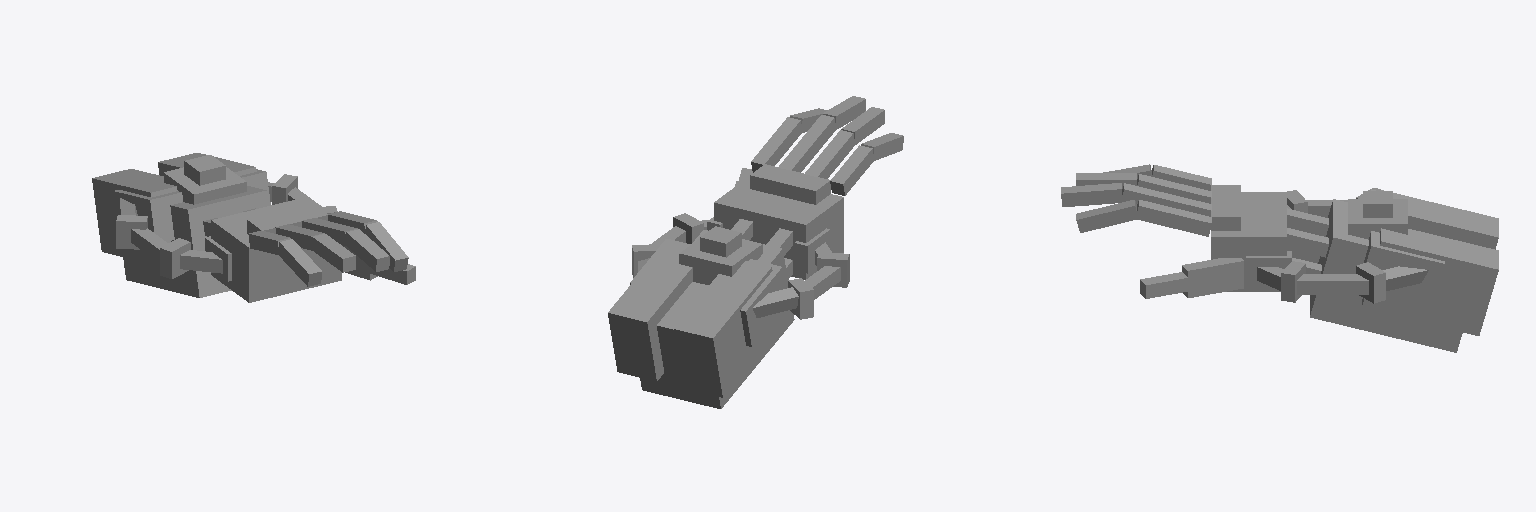
The model's file is powerFist.obj.
3 renders of one model, left to right at view 1: azimuth 30°, elevation 25°; view 2: azimuth 150°, elevation 25°; view 3: azimuth 270°, elevation 25°, orthographic.
Parts seen in each view (by area): view 1: palm, mainarm, armorright, supportbaseright, crystalholder, fingerguard, pinky2, middlefinger2, ringfinger2, crystal, index2, supportright4 (+9 smaller); view 2: armorright, armorleft, palm, mainarm, fingerguard, crystalholder, supportbaseright, middlefinger1, index1, ringfinger1, pinky1, crystal (+9 smaller); view 3: armorleft, mainarm, palm, armorright, supportbaseleft, thumb1, index1, crystalholder, supportleft3, fingerguard, middlefinger2, index2 (+12 smaller).
Part boxes in pixels (left/top/right/bottom): palm: left=211, top=198, right=341, bottom=302; mainarm: left=123, top=186, right=268, bottom=297; armorright: left=92, top=169, right=177, bottom=265; supportbaseright: left=113, top=190, right=182, bottom=241; crystalholder: left=164, top=167, right=246, bottom=204; fingerguard: left=247, top=204, right=327, bottom=258; pinky2: left=278, top=239, right=321, bottom=286; middlefinger2: left=346, top=229, right=389, bottom=271; ringfinger2: left=312, top=234, right=355, bottom=272; crystal: left=184, top=155, right=225, bottom=185; index2: left=365, top=222, right=408, bottom=271; supportright4: left=160, top=238, right=190, bottom=278; armorright: left=674, top=261, right=781, bottom=397; armorleft: left=608, top=241, right=692, bottom=381; palm: left=714, top=176, right=843, bottom=279; mainarm: left=640, top=230, right=794, bottom=408; fingerguard: left=750, top=164, right=830, bottom=204; crystalholder: left=679, top=239, right=762, bottom=284; supportbaseright: left=740, top=259, right=785, bottom=346; middlefinger1: left=778, top=115, right=836, bottom=172; index1: left=751, top=117, right=802, bottom=172; ringfinger1: left=805, top=130, right=854, bottom=178; pinky1: left=830, top=145, right=873, bottom=195; crystal: left=700, top=226, right=741, bottom=257; armorleft: left=1362, top=228, right=1498, bottom=335; mainarm: left=1310, top=199, right=1462, bottom=352; palm: left=1211, top=192, right=1286, bottom=291; armorright: left=1381, top=190, right=1498, bottom=249; supportbaseleft: left=1364, top=231, right=1444, bottom=303; thumb1: left=1182, top=258, right=1243, bottom=297; index1: left=1136, top=200, right=1211, bottom=236; crystalholder: left=1348, top=199, right=1407, bottom=239; supportleft3: left=1297, top=274, right=1368, bottom=294; fingerguard: left=1211, top=185, right=1240, bottom=230; middlefinger2: left=1061, top=183, right=1122, bottom=206; index2: left=1076, top=200, right=1138, bottom=232.
Size of the model in its own units: 0.8815 by 0.7136 by 1.8.